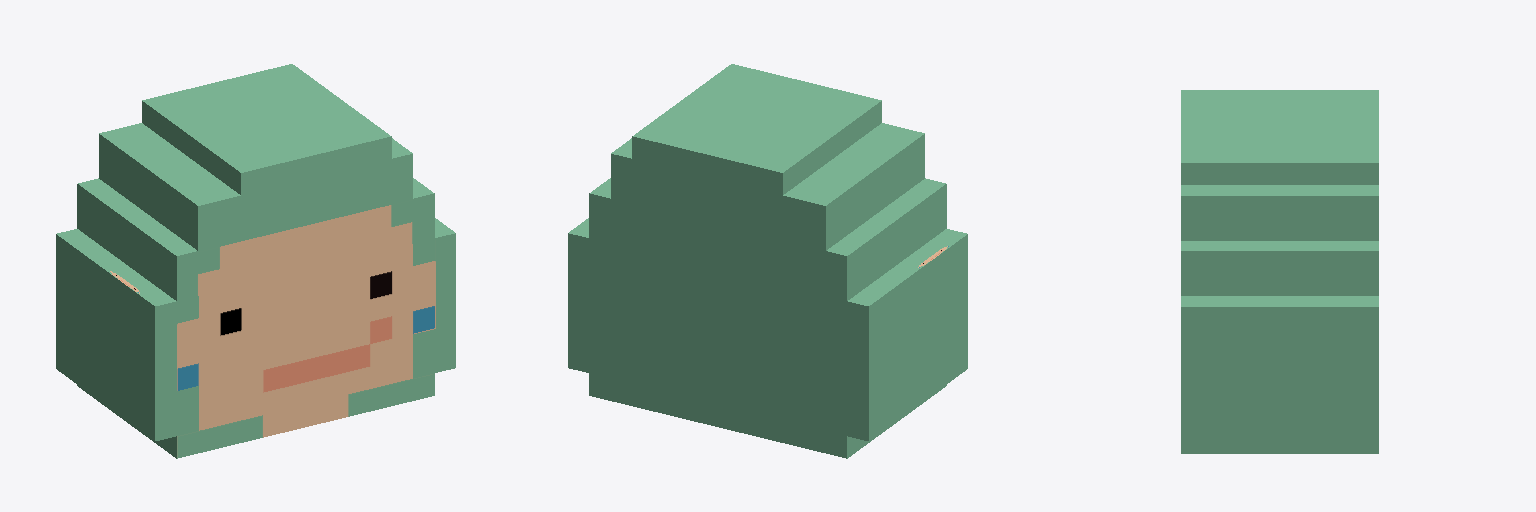
3 renders of one model, left to right at view 1: azimuth 30°, elevation 25°; view 2: azimuth 150°, elevation 25°; view 3: azimuth 270°, elevation 25°, orthographic.
Visible parts, largest first — view 1: head_Plane; view 2: head_Plane; view 3: head_Plane.
Boxes of the visible parts, box(x1,y1,x2,y2) form: head_Plane: box(56, 64, 455, 458); head_Plane: box(568, 64, 967, 458); head_Plane: box(1181, 90, 1378, 453).
Size of the model in its own units: 0.0835 by 0.0716 by 0.0477.
1 materials, 1 textured.